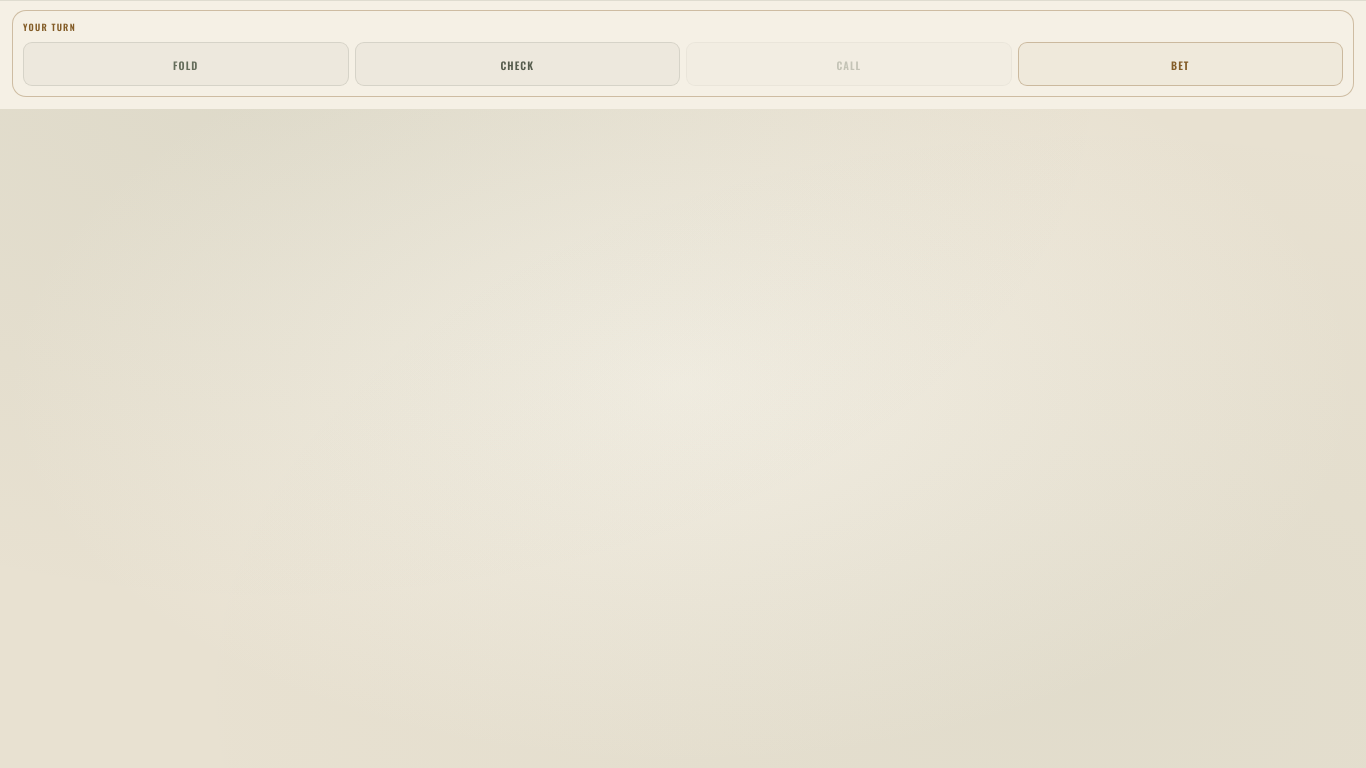
Scenario: BET is the one verb that needs a number › takes a free amount, and refuses one the table would
The width and height of the screenshot is (1366, 768).
Click the button "BET": (1180, 64) [1018,42,1343,86]
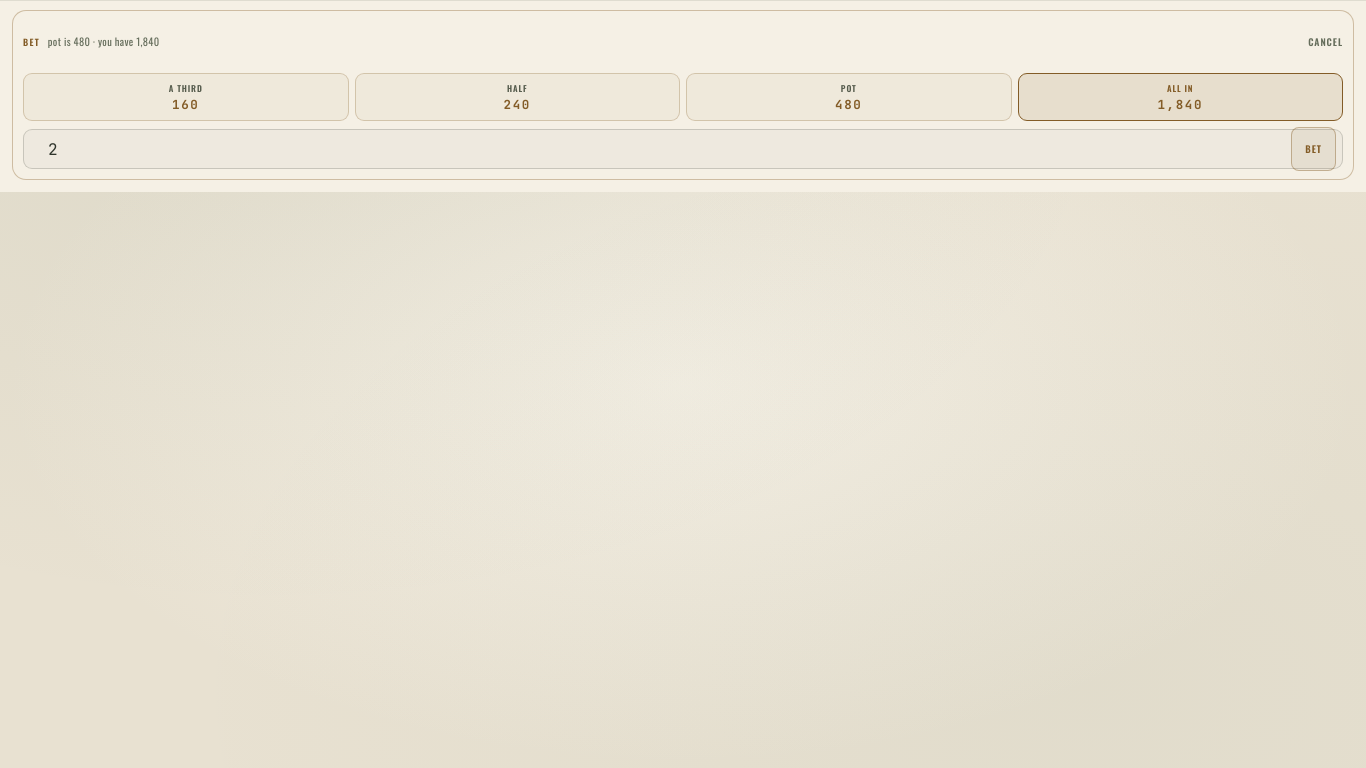
Replace the text in the number field named "any amount" with "137": (659, 149) [36,127,1282,171]
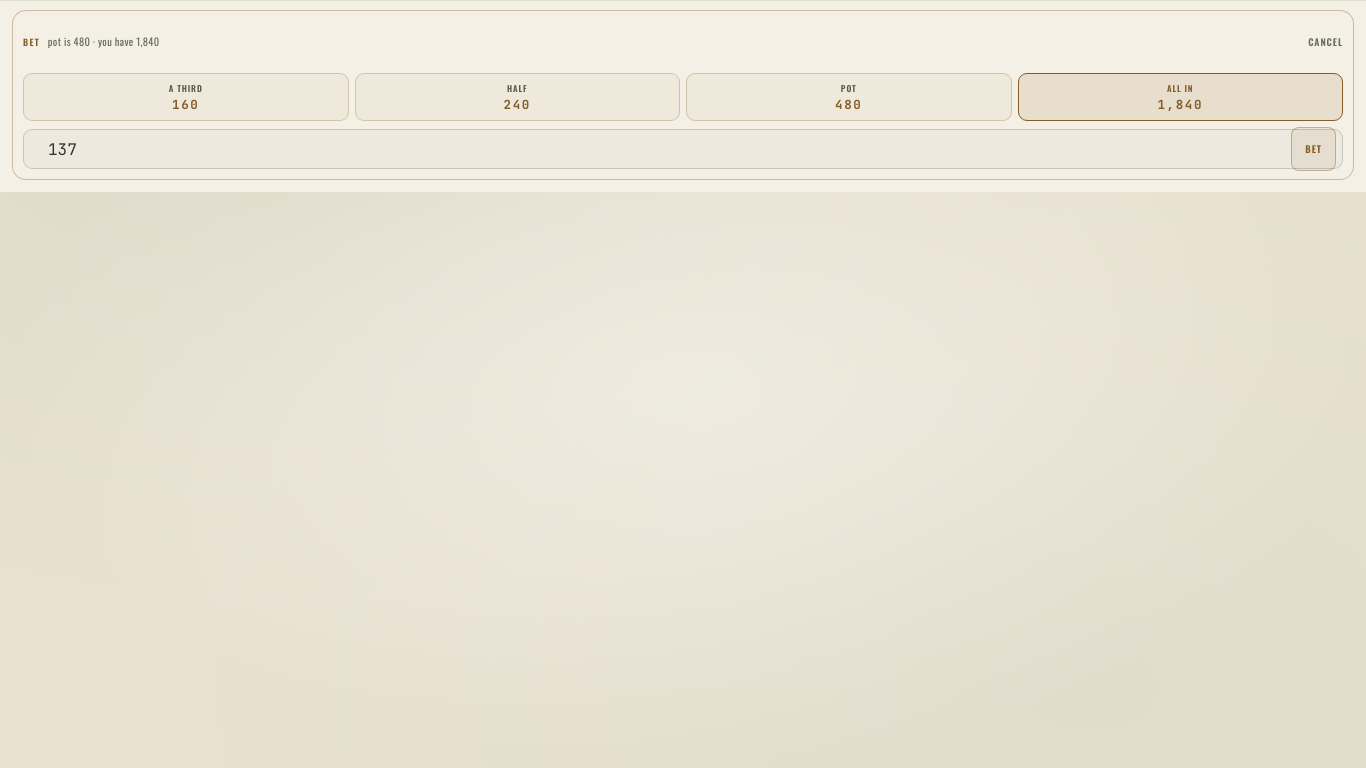
Click the button "BET": (1314, 149) [1291,127,1336,171]
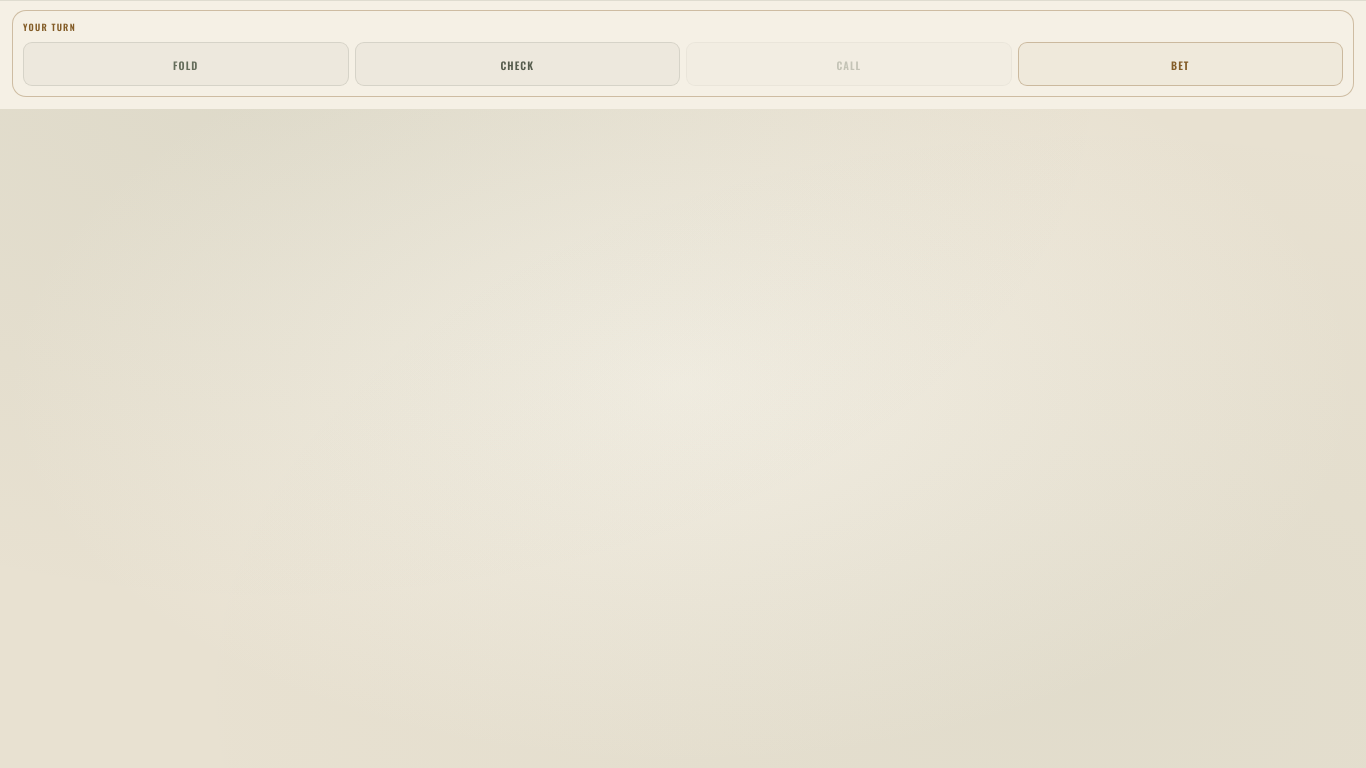
Note: And over the jam it will not go.
Click the button "BET": (1180, 64) [1018,42,1343,86]
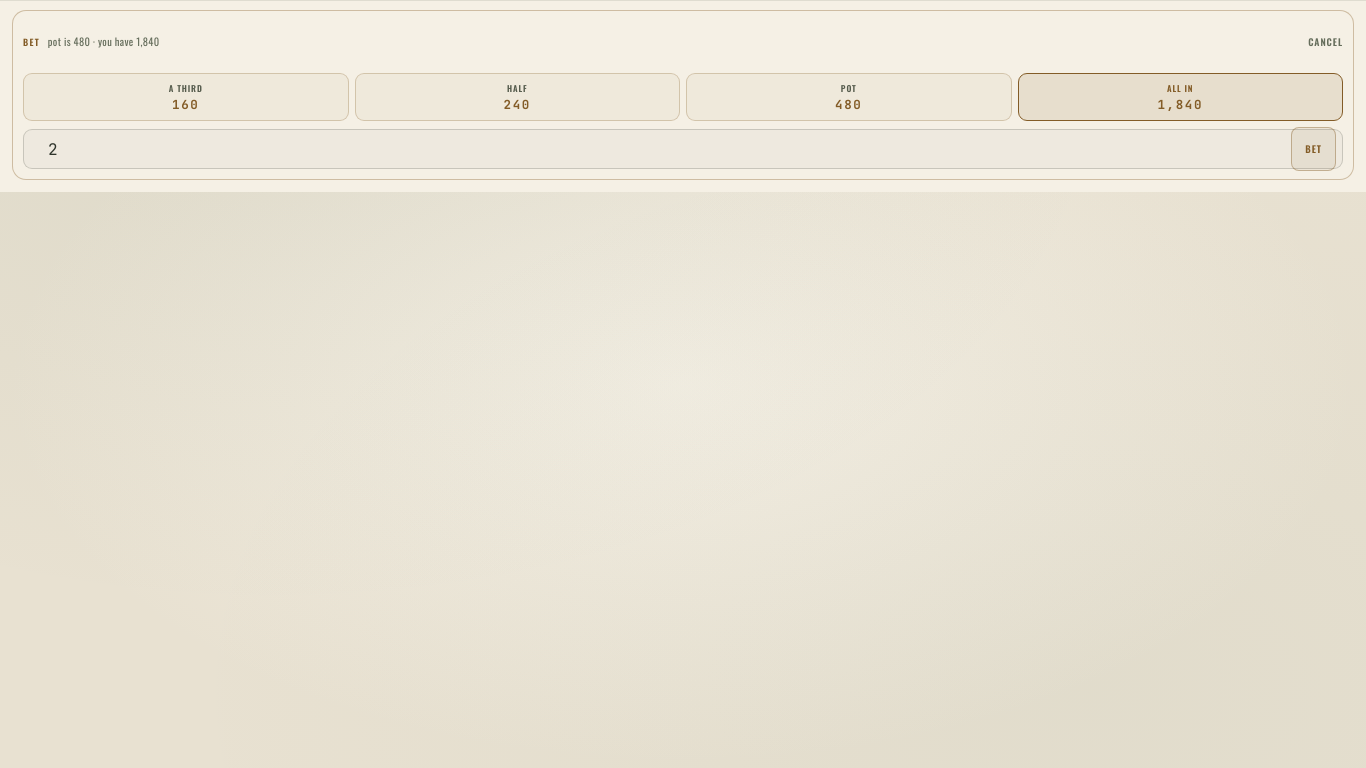
Replace the text in the number field named "any amount" with "99999": (659, 149) [36,127,1282,171]
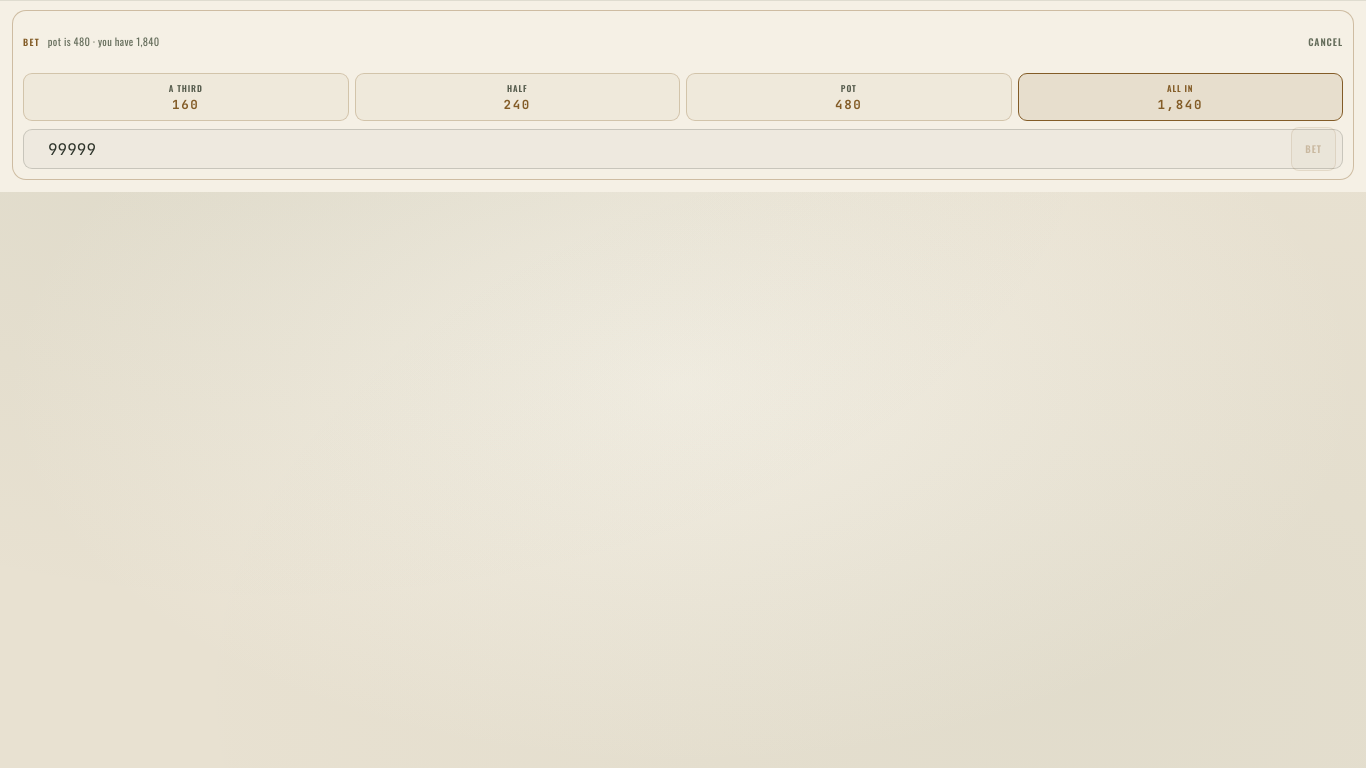
Expected: the button "BET" is disabled, [1291,127,1336,171]
